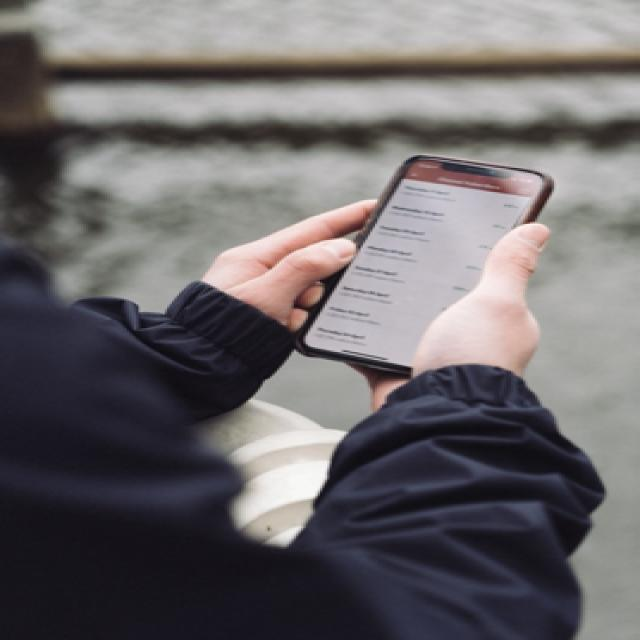cellphone: (291, 152, 554, 376)
